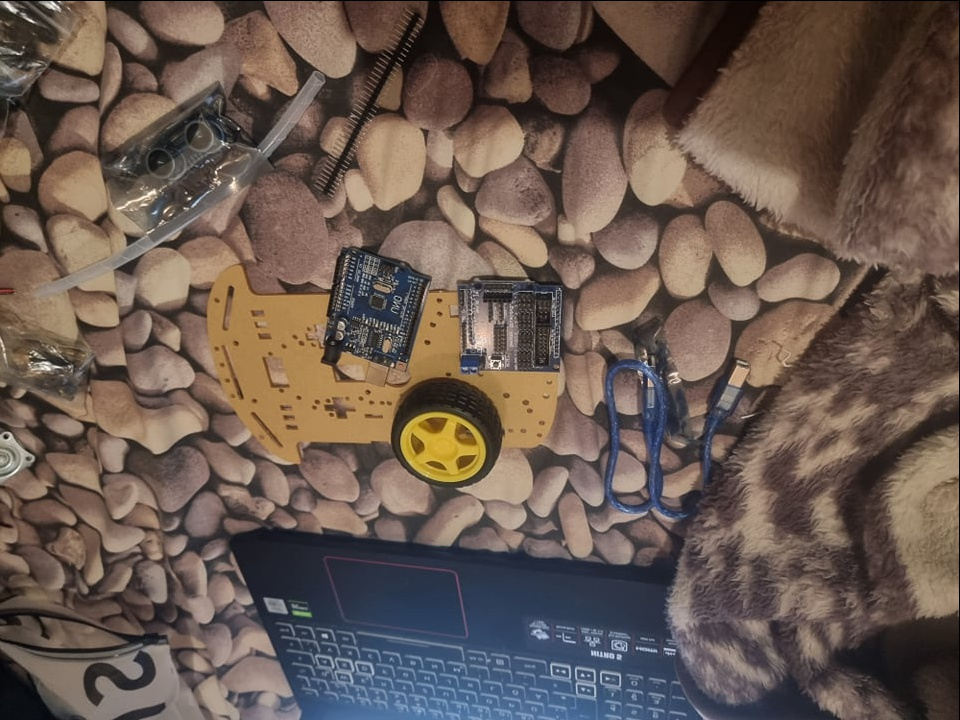5V EXPANSION: (319, 245, 433, 366), (459, 277, 564, 377)
SENSOR: (145, 111, 223, 184)
